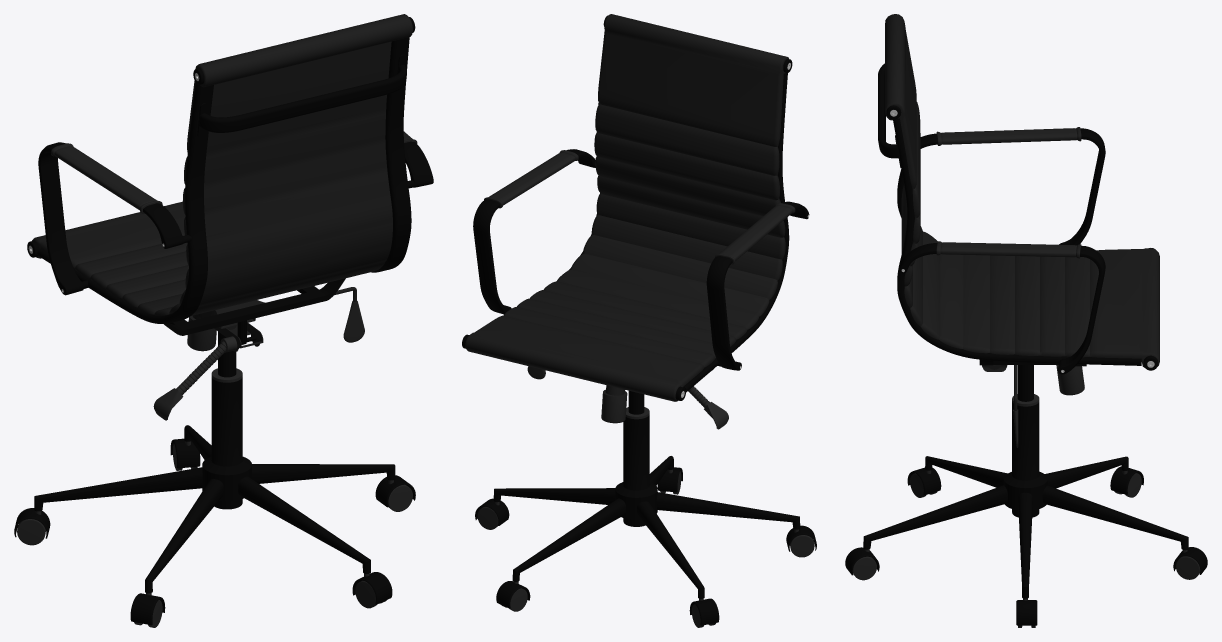
The model's file is chair.gltf.
The picture shows the model from 3 angles, left to right: view 1: azimuth 30°, elevation 25°; view 2: azimuth 150°, elevation 25°; view 3: azimuth 270°, elevation 25°; orthographic projection. The views are drawn at different scales.
Parts seen in each view (by area): view 1: leather, bottom2, metalicpart, armrest_left_1, bottom3, bottom, armrest_right_1; view 2: leather, bottom2, armrest_left_1, armrest_right_1, metalicpart, bottom3; view 3: leather, bottom2, metalicpart, armrest_right_1, armrest_left_1, bottom3.
Part boxes in pixels (left/top/right/bottom): leather: left=32, top=14, right=412, bottom=315; bottom2: left=14, top=300, right=415, bottom=627; metalicpart: left=27, top=17, right=415, bottom=323; armrest_left_1: left=38, top=142, right=192, bottom=295; bottom3: left=153, top=287, right=364, bottom=420; bottom: left=164, top=278, right=345, bottom=335; armrest_right_1: left=403, top=131, right=433, bottom=188; leather: left=465, top=14, right=788, bottom=401; bottom2: left=475, top=390, right=816, bottom=627; armrest_left_1: left=706, top=201, right=809, bottom=370; armrest_right_1: left=473, top=149, right=595, bottom=314; metalicpart: left=462, top=15, right=792, bottom=400; bottom3: left=527, top=366, right=728, bottom=429; leather: left=885, top=14, right=1159, bottom=367; bottom2: left=845, top=365, right=1207, bottom=627; metalicpart: left=878, top=63, right=1158, bottom=370; armrest_right_1: left=900, top=241, right=1105, bottom=374; armrest_left_1: left=920, top=127, right=1105, bottom=245; bottom3: left=982, top=365, right=1084, bottom=447.
Size of the model in its own units: 0.9604 by 1.53 by 1.01.
Materials: 7 (6 with a texture image).
